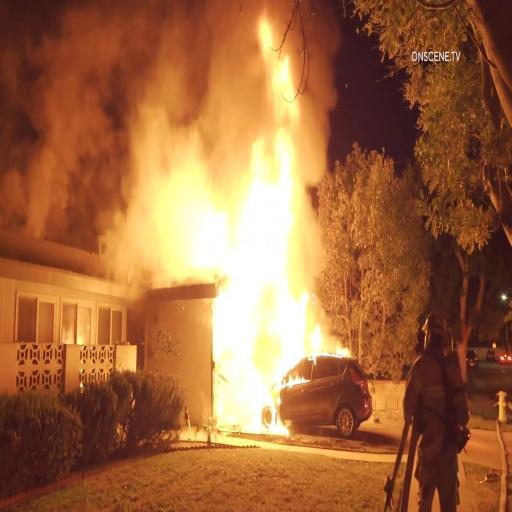fire: (243, 110, 331, 351), (155, 154, 316, 279), (276, 110, 330, 354), (236, 244, 285, 438)
smoke: (4, 2, 157, 194), (92, 5, 254, 98)
